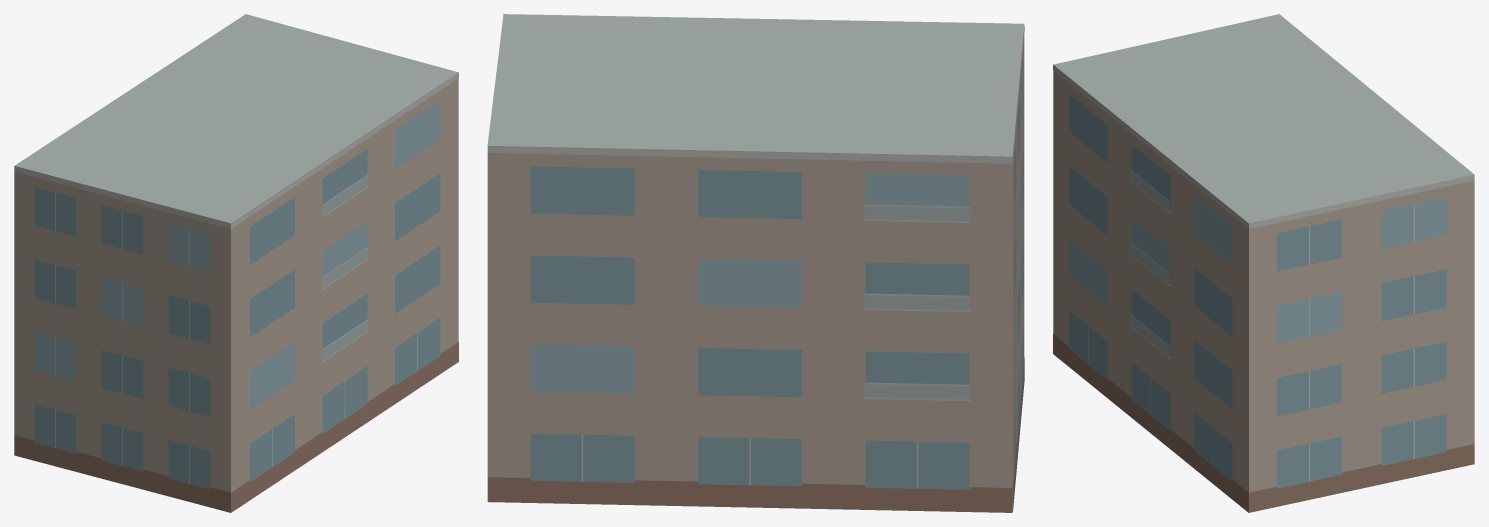
File: survey-upis-32916586.glb
3 views of the same model, side by side, from view 1: azimuth 30°, elevation 25°; view 2: azimuth 150°, elevation 25°; view 3: azimuth 270°, elevation 25° (orthographic). The views are drawn at different scales.
Parts seen in each view (by area): view 1: survey-upis-32916586.tmp; view 2: survey-upis-32916586.tmp; view 3: survey-upis-32916586.tmp.
Boxes of the visible parts, x1=… form: survey-upis-32916586.tmp: x1=14, y1=14, x2=458, y2=512; survey-upis-32916586.tmp: x1=487, y1=14, x2=1024, y2=512; survey-upis-32916586.tmp: x1=1053, y1=14, x2=1474, y2=512.
Bounding box in the file's own units: 18.94 × 12.2 × 16.11.
